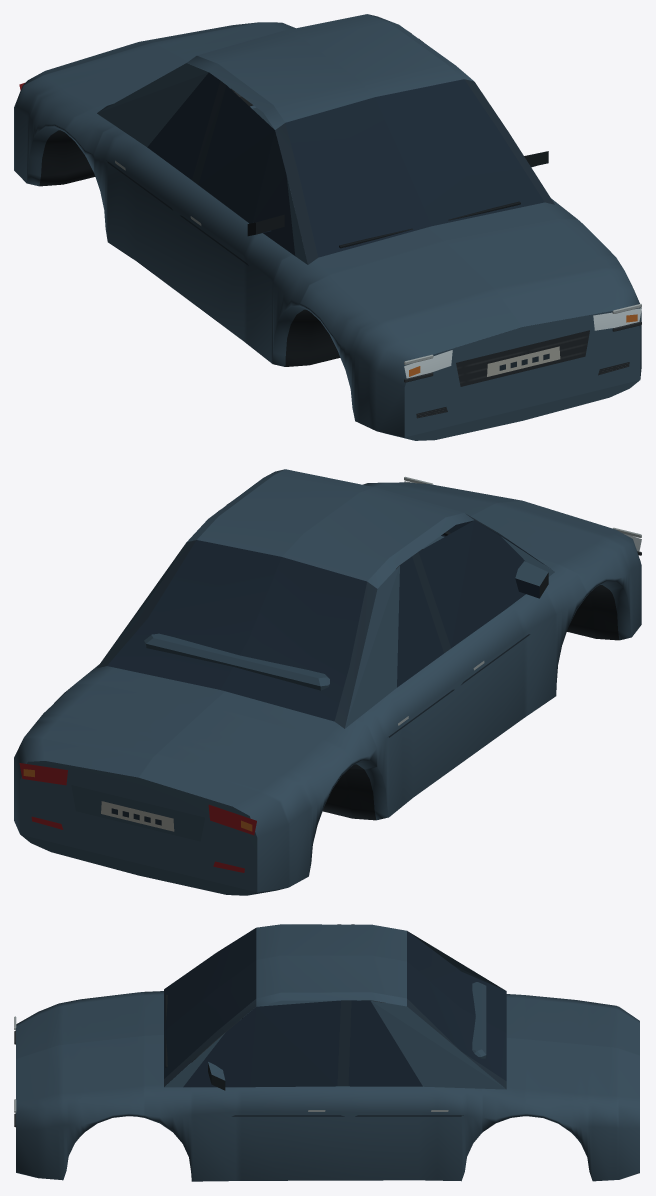
The model's file is AarisCivilSedan.obj.
3 views of the same model, one above another, from view 1: azimuth 30°, elevation 25°; view 2: azimuth 150°, elevation 25°; view 3: azimuth 270°, elevation 25° (orthographic). The views are drawn at different scales.
Visible parts, largest first — view 1: AarisCivilSedan; view 2: AarisCivilSedan; view 3: AarisCivilSedan.
Boxes of the visible parts, x1=… form: AarisCivilSedan: x1=14, y1=14, x2=641, y2=440; AarisCivilSedan: x1=14, y1=469, x2=641, y2=895; AarisCivilSedan: x1=14, y1=924, x2=639, y2=1181.
Size of the model in its own units: 1.87 by 1.35 by 4.29.
2 materials, 1 textured.
